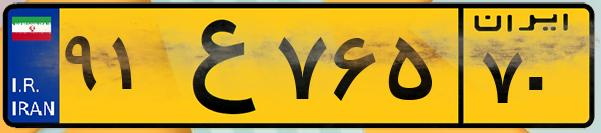0: (525, 38, 570, 115)
1: (110, 28, 158, 98)
5: (385, 28, 445, 110)
6: (330, 28, 385, 110)
7: (270, 28, 330, 110), (475, 38, 525, 113)
9: (57, 26, 110, 100)
ع: (158, 12, 270, 120)
